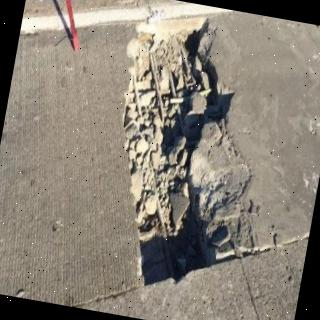pothole: (123, 19, 234, 287)
